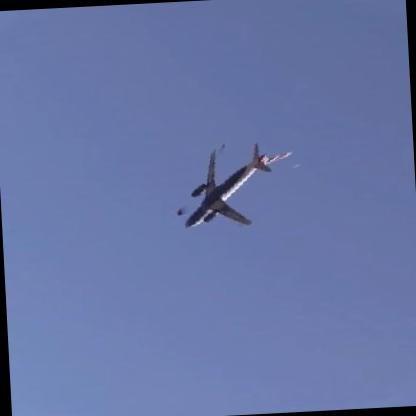plane: (169, 135, 306, 238)
